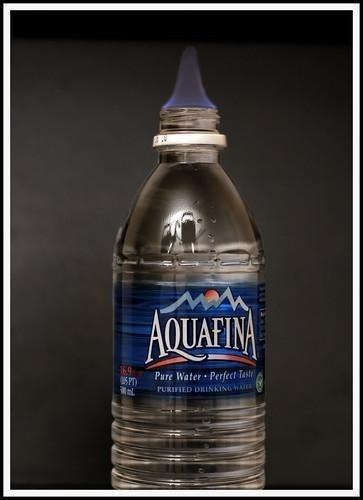bottle-plastic: (109, 106, 274, 490)
